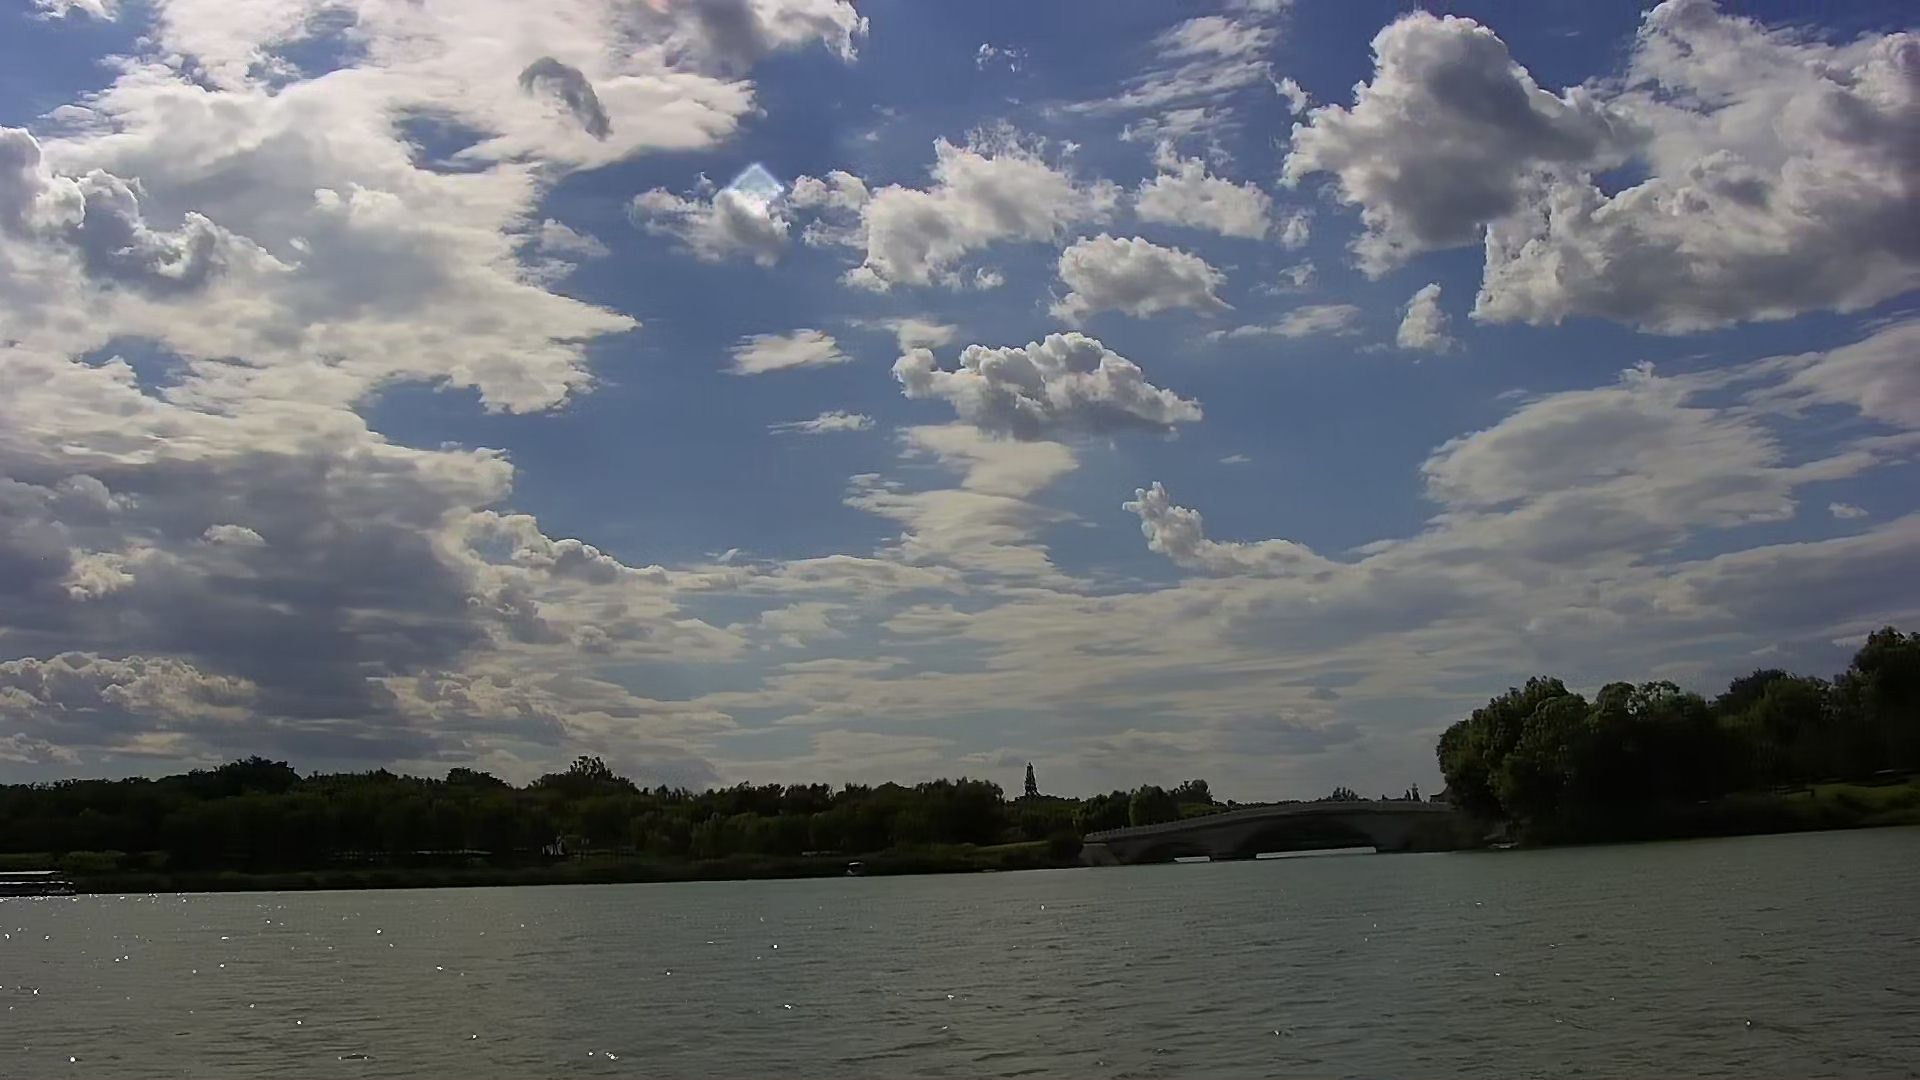bridge: (1106, 796, 1451, 858)
harbor: (1, 869, 76, 897)
